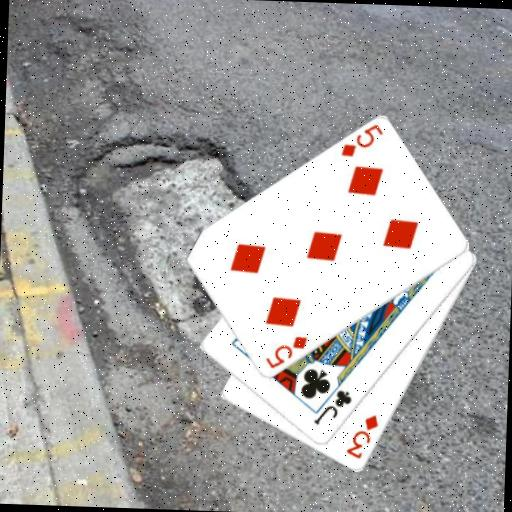3D: (343, 410, 381, 461)
5D: (337, 119, 384, 160), (262, 332, 309, 372)
JC: (310, 386, 353, 428)
